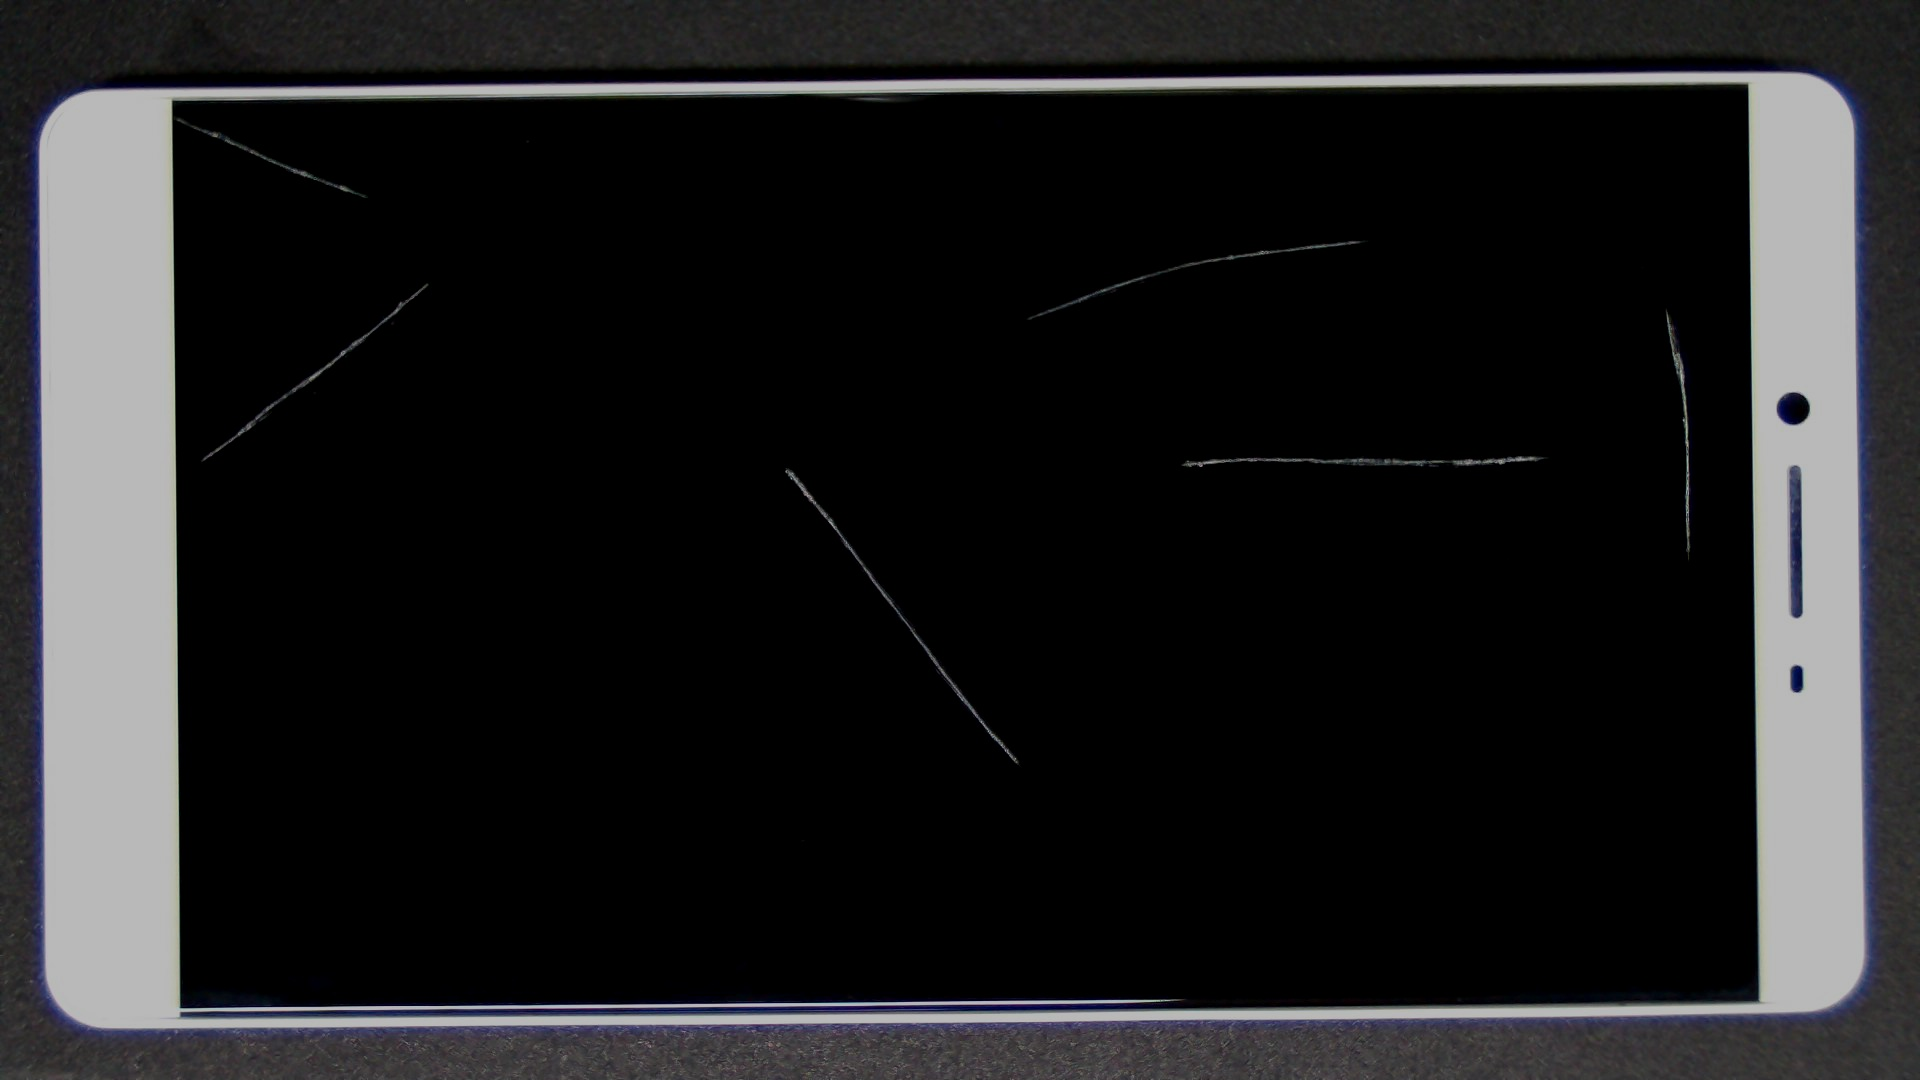oil: (760, 227, 1920, 682), (393, 233, 1179, 702), (833, 152, 1920, 458), (680, 119, 1920, 359), (214, 141, 640, 423), (87, 57, 261, 174)
